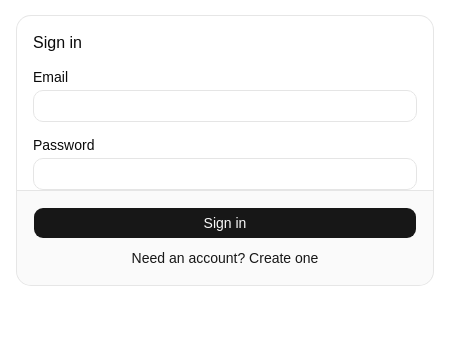
Test: LoginPage › drops the failed sign-in error when switching to registration
Type "owner@example.com" into the field labelled "Email" at (225, 106), box [33,90,417,122]
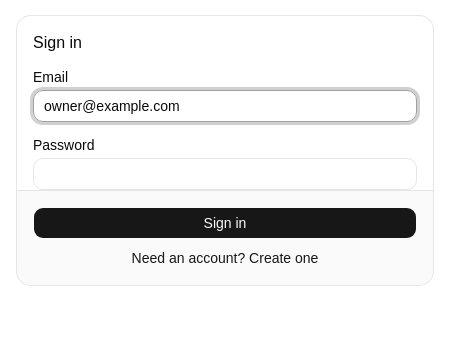
Type "wrong-password-here" into the password field labelled "Password" at (225, 174), box [33,158,417,190]
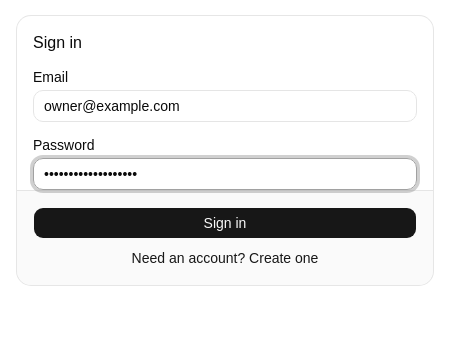
Click the button "Sign in" at (225, 223), box [33,207,417,239]
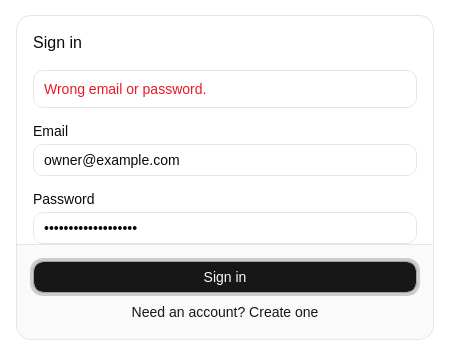
Now the text "Wrong email or password." is shown, box [44,81,206,97]
Click the button "Need an account? Create one" at (225, 312), box [121,301,329,323]
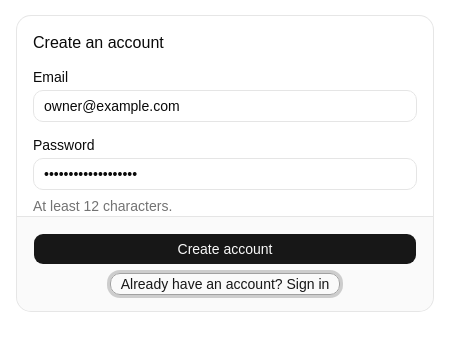
Now the text "Wrong email or password." is gone
